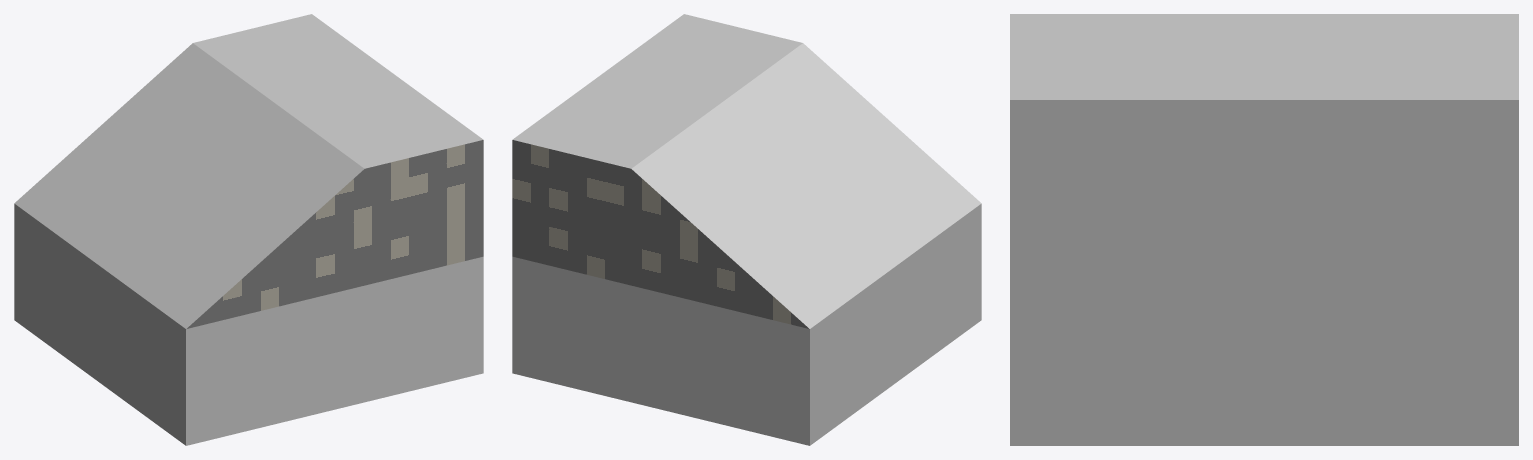
Rendered from slope62_5_shave4_base6.obj.
3 views of the same model, side by side, from view 1: azimuth 30°, elevation 25°; view 2: azimuth 150°, elevation 25°; view 3: azimuth 270°, elevation 25° (orthographic). The views are drawn at different scales.
Size of the model in its own units: 1 by 0.75 by 1.
